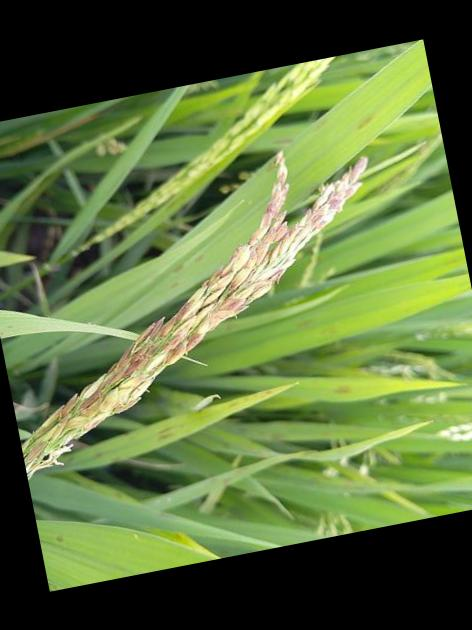Panicle Blight: (24, 153, 287, 460), (89, 156, 367, 426)
